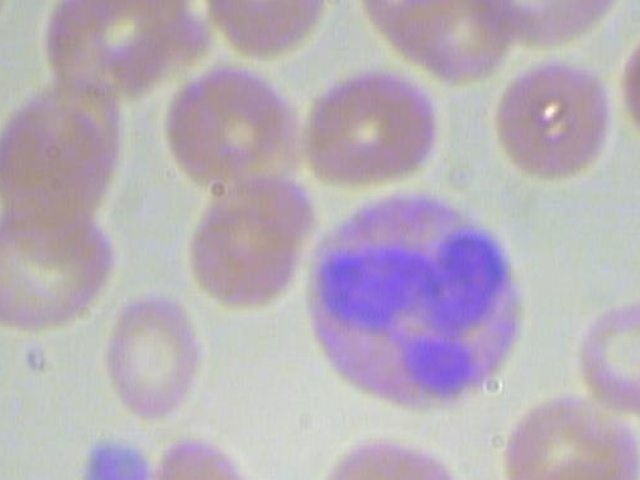Platelets: (68, 435, 162, 480)
RBC: (289, 63, 446, 192), (158, 58, 302, 197), (0, 200, 126, 337), (492, 54, 624, 182), (88, 288, 208, 425), (305, 423, 471, 480), (575, 288, 640, 421)
WBC: (300, 180, 537, 415)
